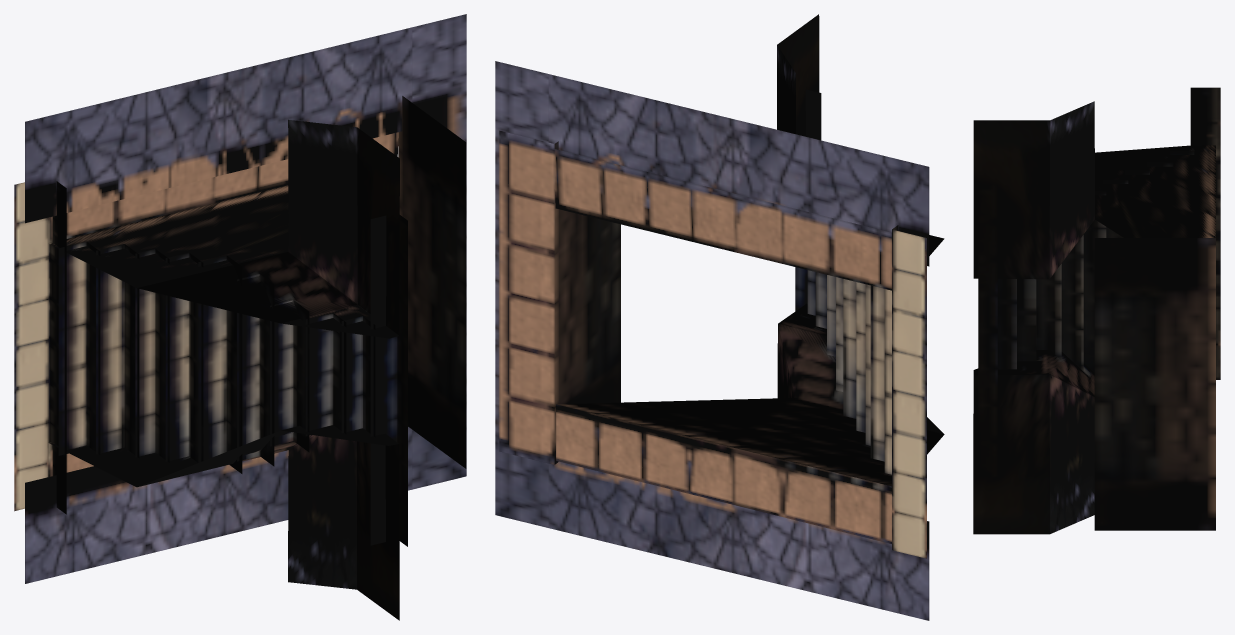
The model's file is ex_DownStairs.obj.
The picture shows the model from 3 angles, left to right: view 1: azimuth 30°, elevation 25°; view 2: azimuth 150°, elevation 25°; view 3: azimuth 270°, elevation 25°; orthographic projection. The views are drawn at different scales.
Parts seen in each view (by area): view 1: Cube.346_Cube.577; view 2: Cube.346_Cube.577; view 3: Cube.346_Cube.577.
Boxes of the visible parts, x1=… form: Cube.346_Cube.577: x1=14, y1=14, x2=466, y2=620; Cube.346_Cube.577: x1=495, y1=14, x2=944, y2=620; Cube.346_Cube.577: x1=973, y1=87, x2=1220, y2=534.
Bounding box in the file's own units: 258 × 256 × 138.
